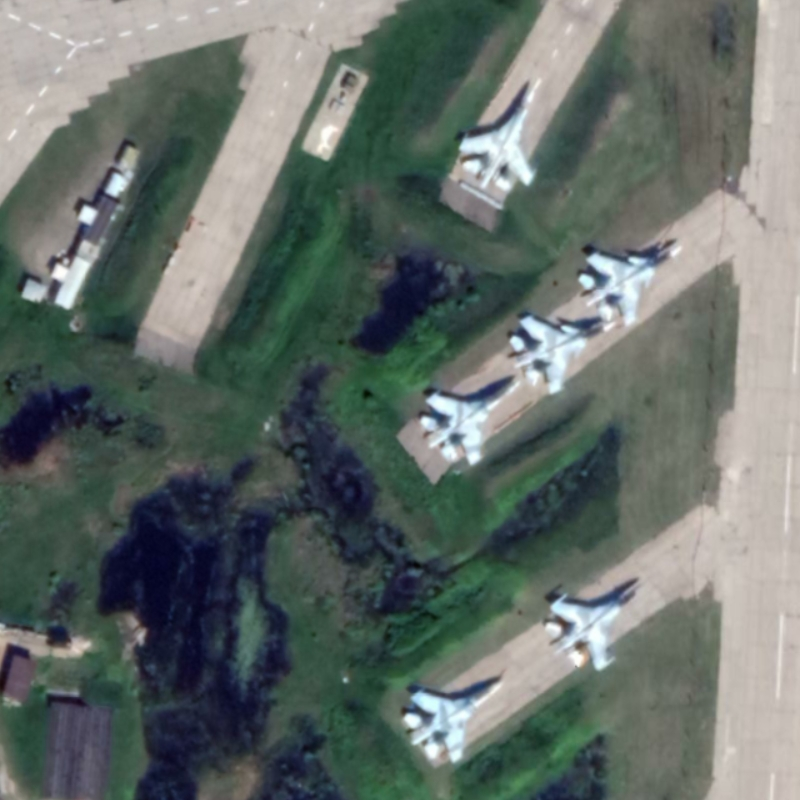A1: (402, 674, 507, 767), (418, 377, 524, 469), (543, 581, 645, 673), (457, 85, 540, 192)
A19: (507, 312, 621, 398), (576, 243, 685, 329)
